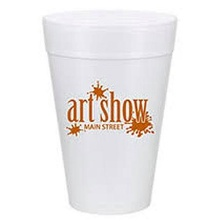paper_cup: (36, 4, 181, 219)
